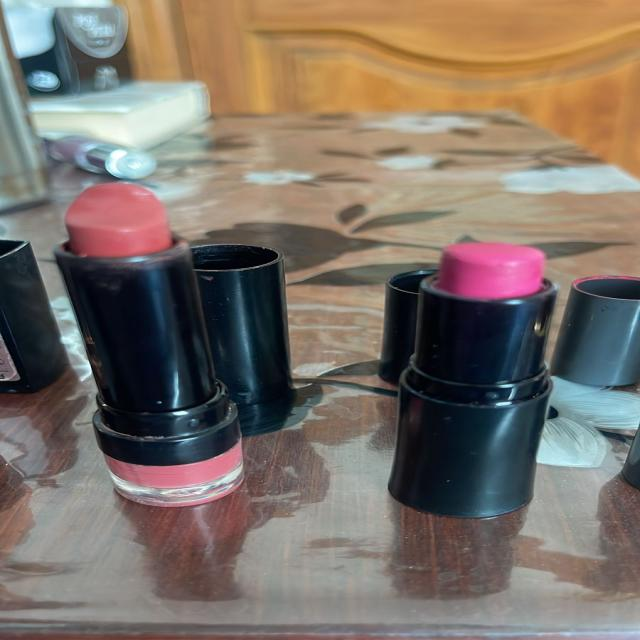lip stick: (34, 161, 261, 531), (356, 214, 584, 528)
